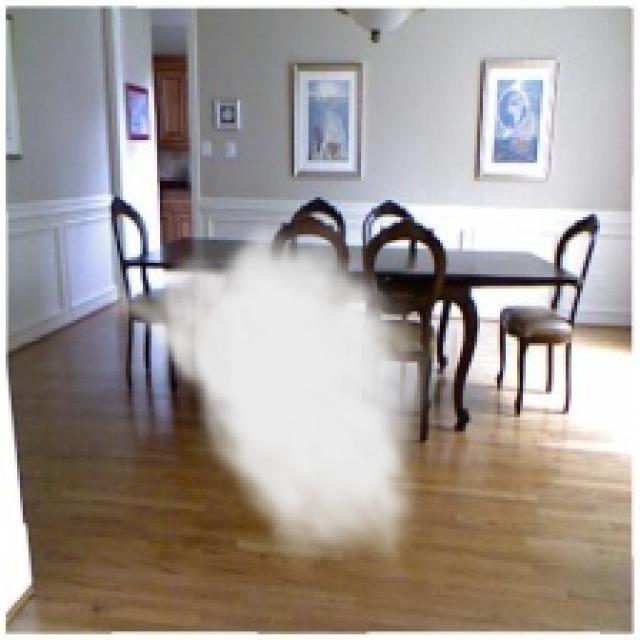Smoke: (92, 211, 437, 580)
